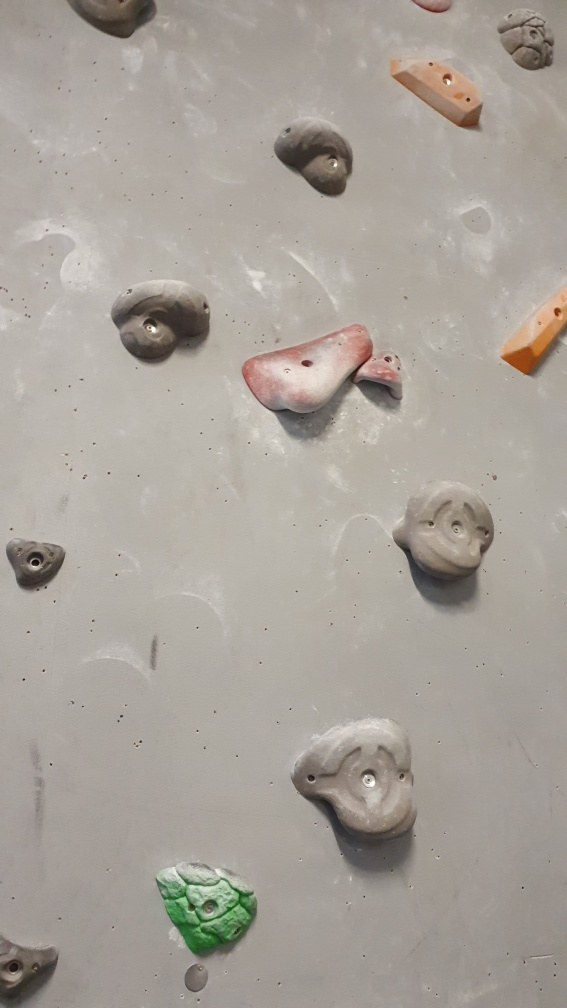Crimp: (1, 534, 72, 596)
Hand Start: (177, 955, 218, 1000)
Jug: (292, 716, 421, 846), (389, 476, 497, 586), (109, 280, 216, 366), (271, 114, 355, 198), (496, 4, 561, 76)
Pinch: (386, 51, 487, 132), (497, 285, 567, 381)
